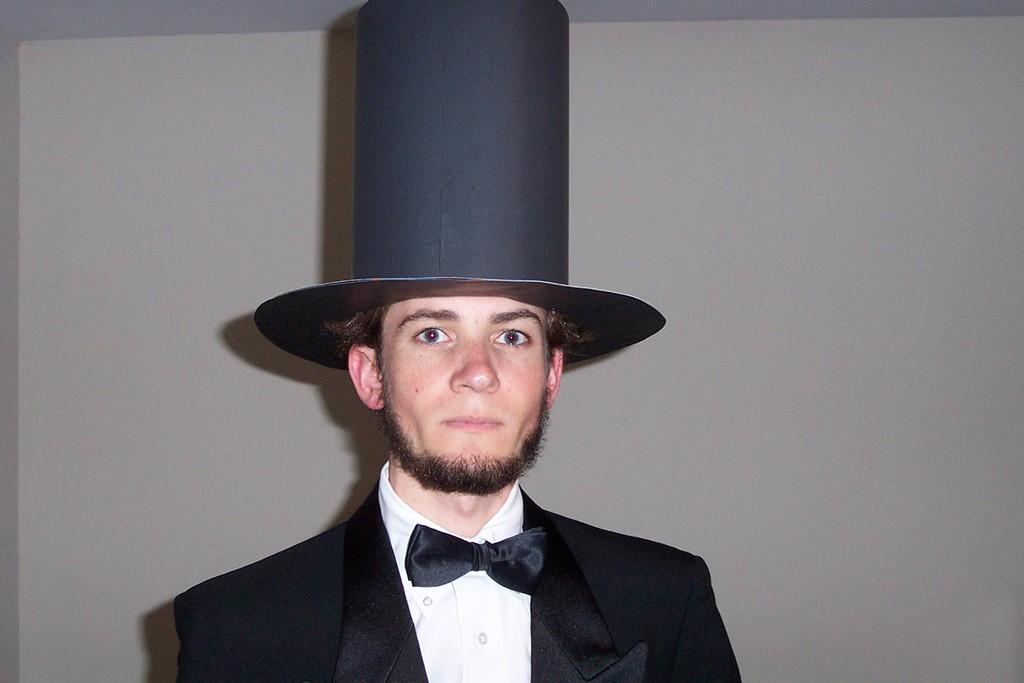Hat: (249, 0, 666, 372)
